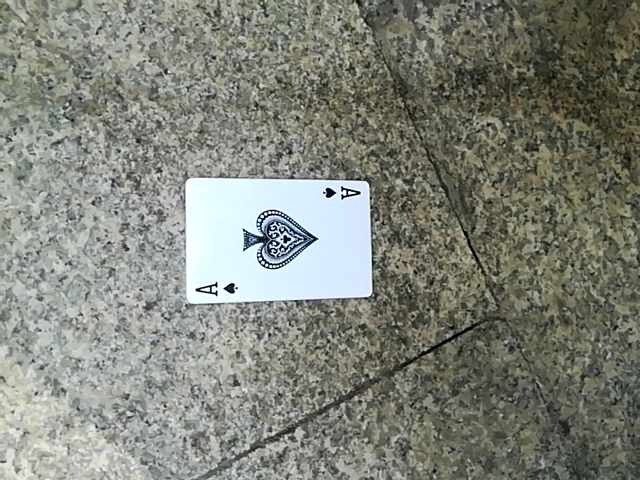ht a: (173, 173, 360, 299)
